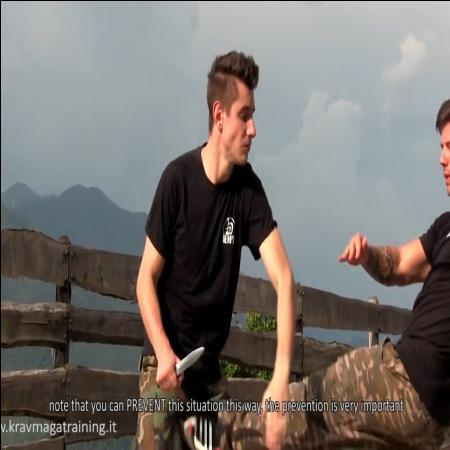long weapon: (151, 339, 207, 393)
